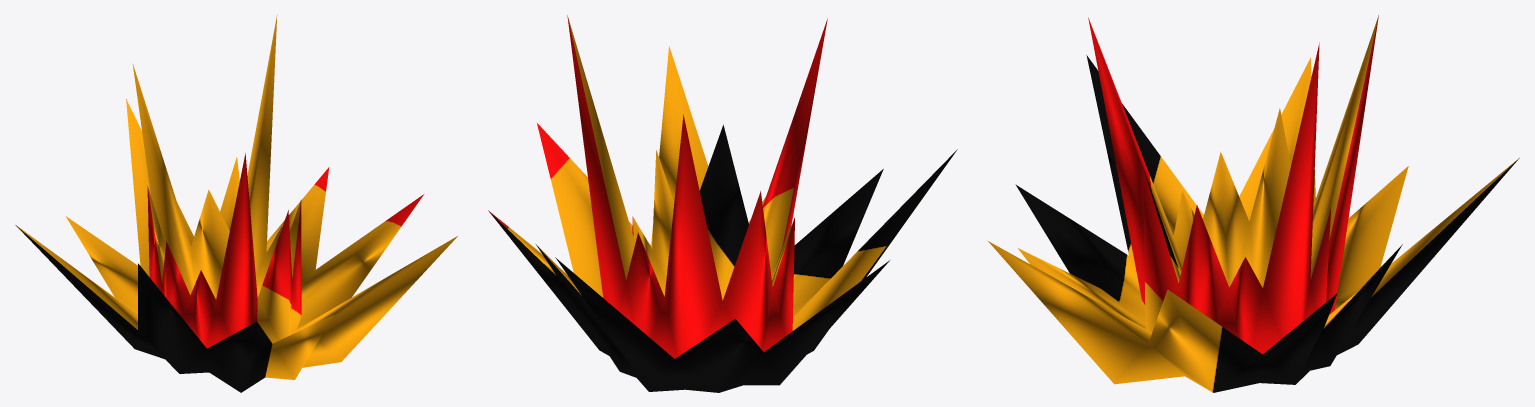
File: explosion.obj
The picture shows the model from 3 angles, left to right: view 1: azimuth 30°, elevation 25°; view 2: azimuth 150°, elevation 25°; view 3: azimuth 270°, elevation 25°; orthographic projection. The views are drawn at different scales.
Parts seen in each view (by area): view 1: d; view 2: d; view 3: d.
Part boxes in pixels (x1=…): d: x1=15, y1=15, x2=457, y2=392; d: x1=488, y1=15, x2=957, y2=392; d: x1=988, y1=15, x2=1519, y2=392.
Size of the model in its own units: 2.04 by 1.57 by 2.14.
1 material, 1 textured.
